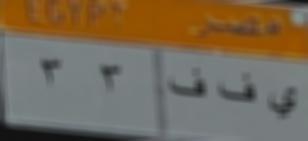3: (95, 57, 130, 100), (38, 48, 65, 97)
faa: (215, 66, 258, 115), (166, 63, 208, 106)
yaa: (266, 80, 301, 125)
